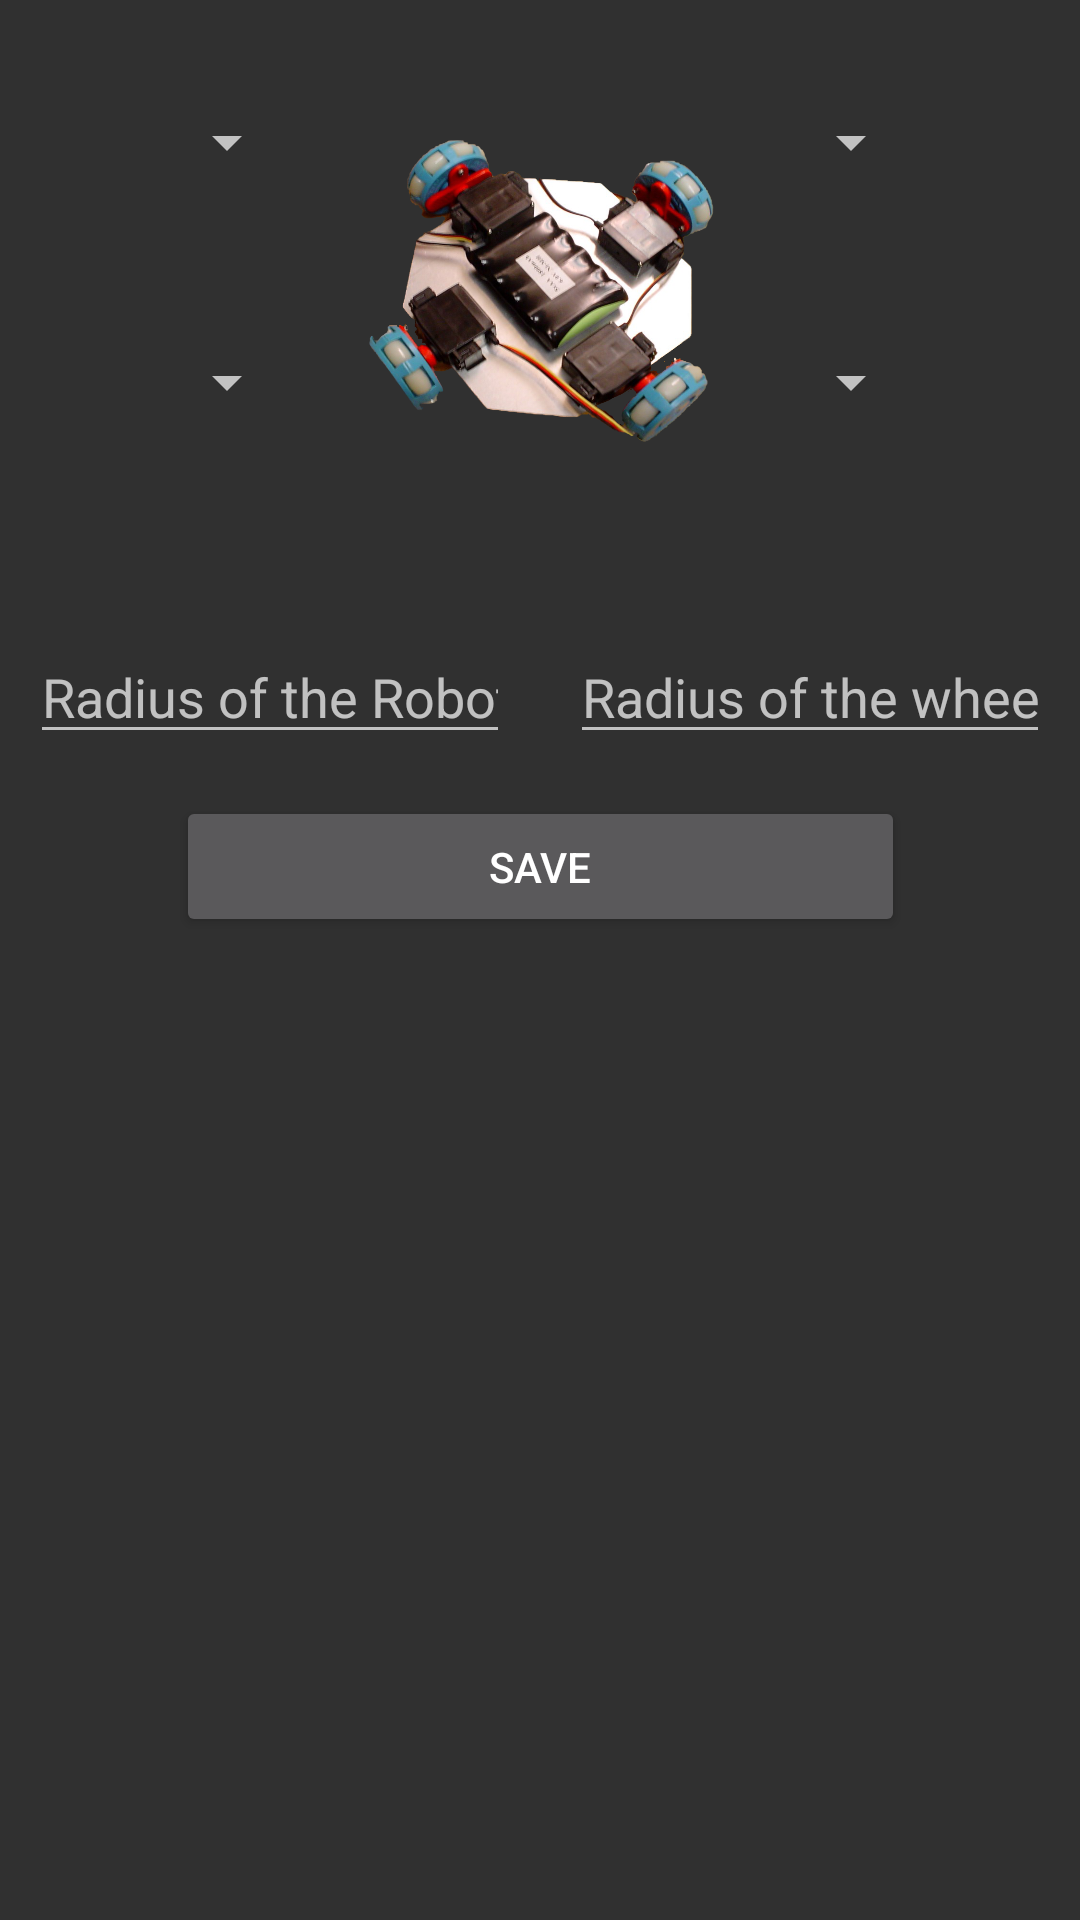

Icon click points for this 1080w x 1920h phone screenshot, format [x,y]:
robot 4w: [541,291]
